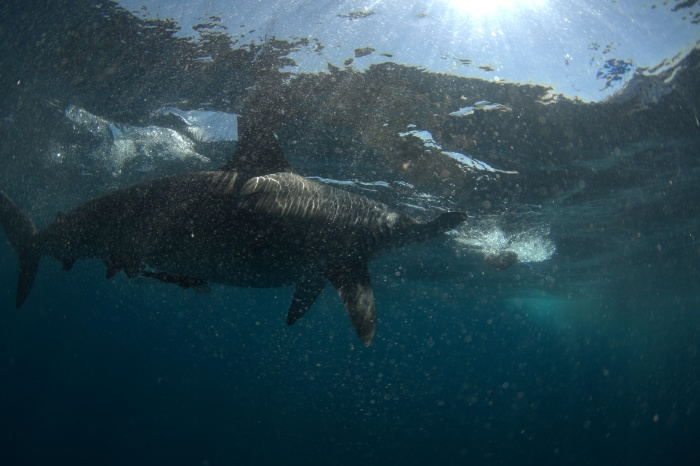Hammer: (1, 92, 500, 371)
